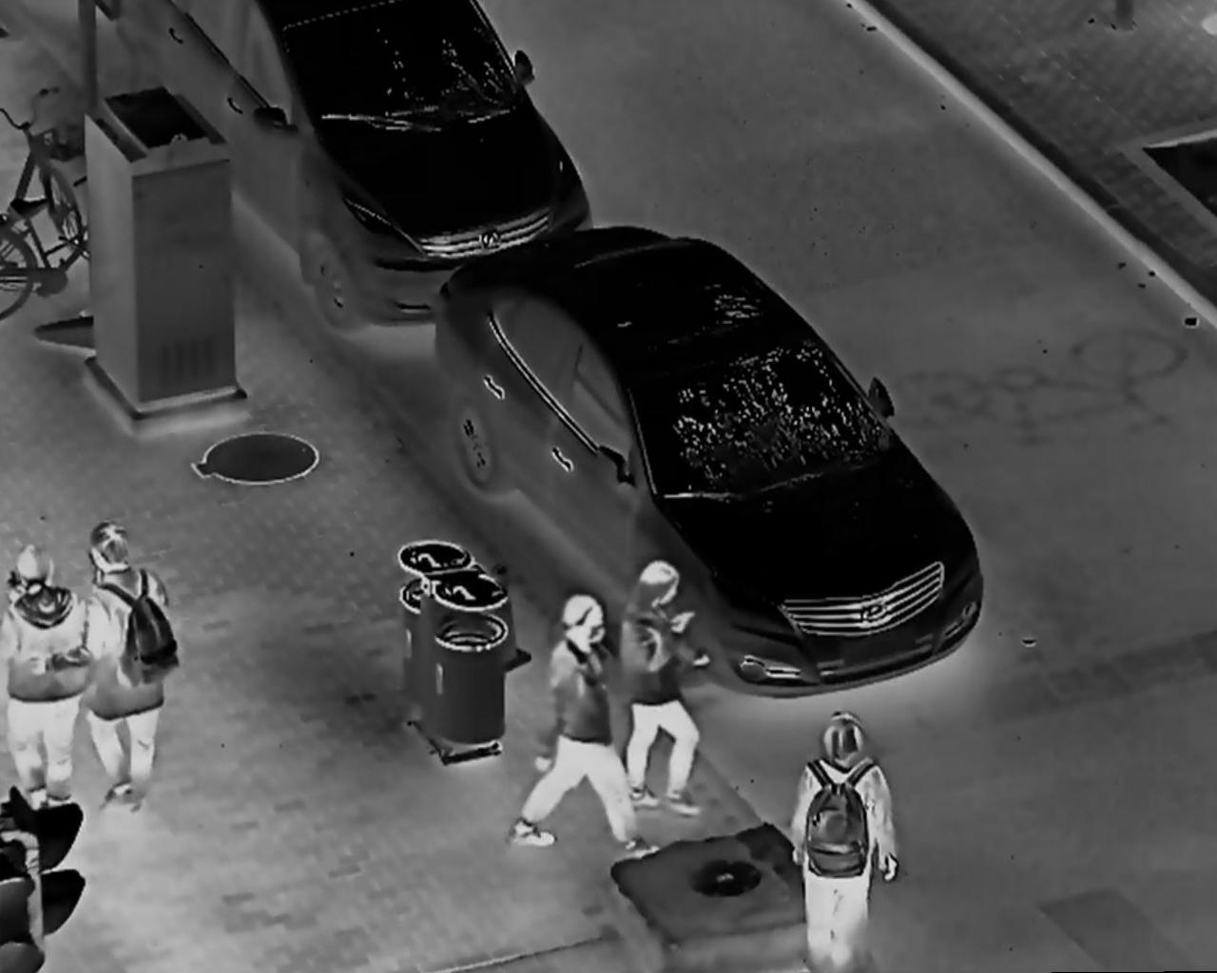person: (509, 597, 654, 859), (786, 711, 906, 973), (83, 513, 184, 813), (614, 560, 718, 822)
